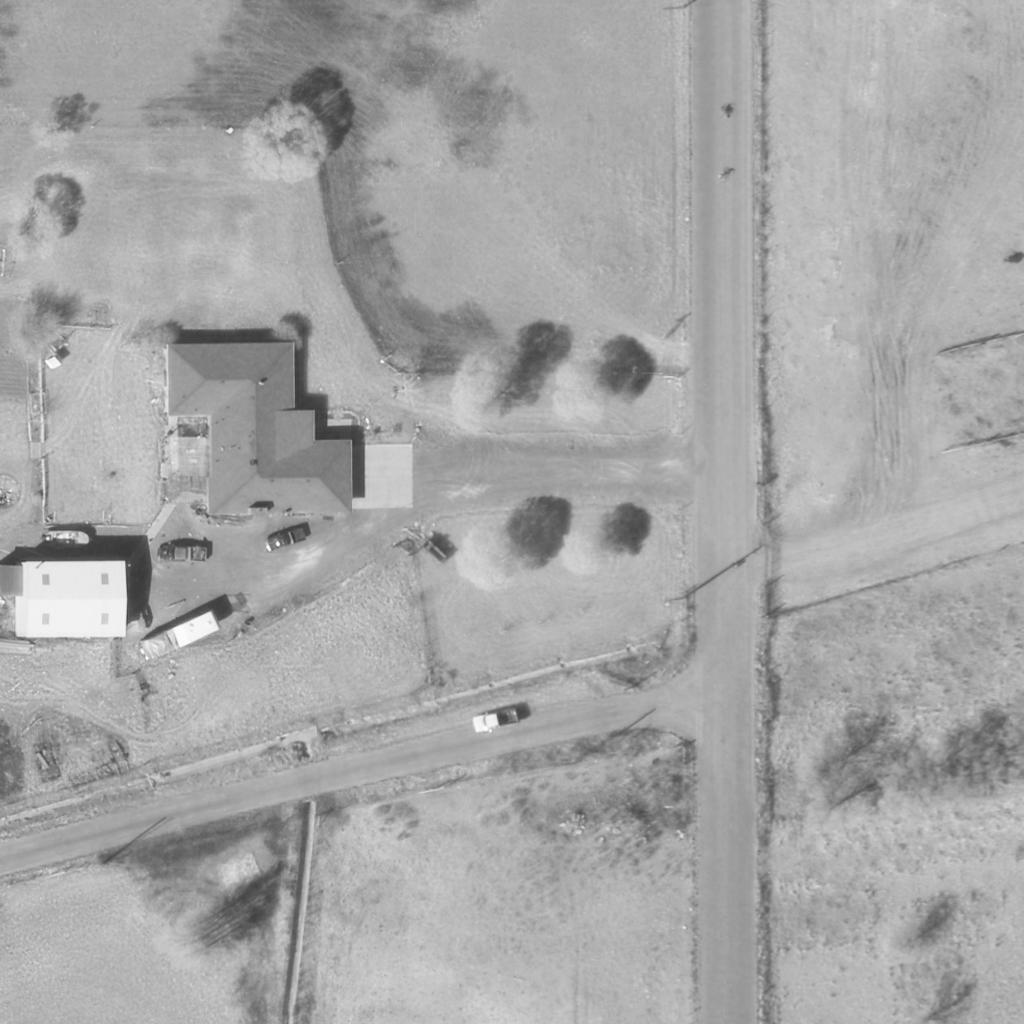vehicle: (136, 608, 224, 668), (473, 706, 523, 734), (264, 523, 308, 553), (39, 530, 93, 552), (155, 546, 209, 562)
